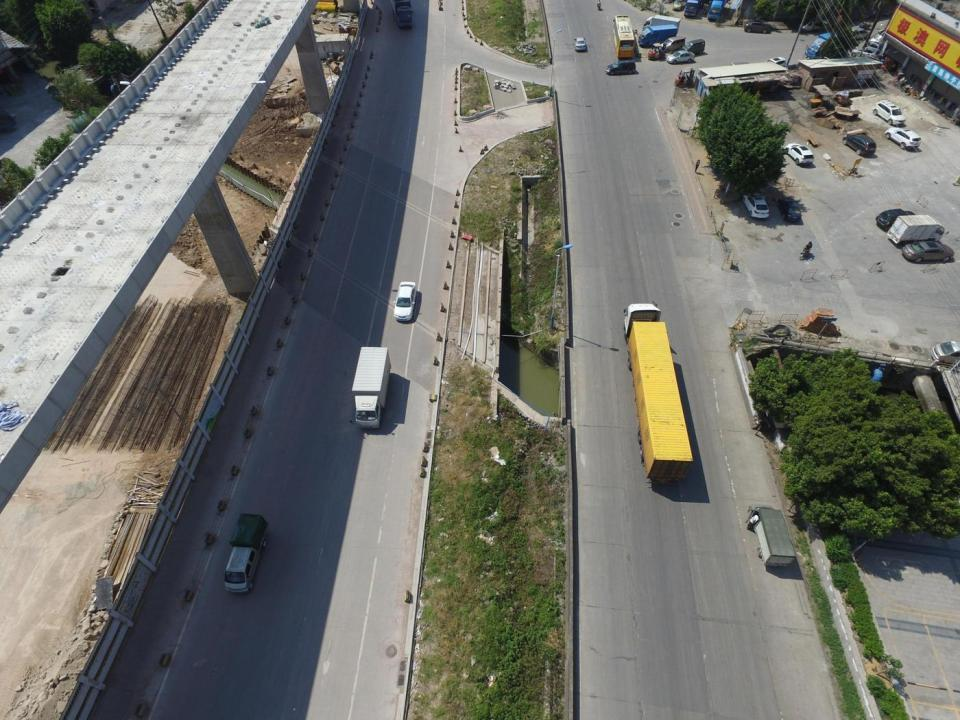bus: (612, 15, 634, 58)
car: (902, 241, 954, 262), (394, 281, 416, 322), (872, 100, 906, 126), (876, 208, 916, 229), (884, 127, 921, 149), (842, 134, 876, 156), (743, 193, 770, 218), (785, 142, 813, 165), (778, 198, 802, 223), (850, 46, 880, 61), (665, 51, 695, 64), (743, 21, 771, 34), (763, 57, 787, 71), (867, 31, 888, 46), (574, 37, 586, 51), (673, 0, 683, 11)
van: (622, 300, 693, 485), (349, 346, 392, 428), (223, 514, 267, 592), (746, 504, 796, 567), (888, 215, 950, 245), (805, 29, 848, 58), (638, 24, 678, 47), (642, 14, 682, 34), (930, 340, 960, 365), (390, 0, 414, 29), (606, 60, 636, 76), (802, 16, 829, 33), (708, 0, 725, 21), (680, 39, 706, 52), (662, 36, 685, 50), (685, 0, 702, 17), (731, 62, 751, 74), (851, 27, 870, 38)
